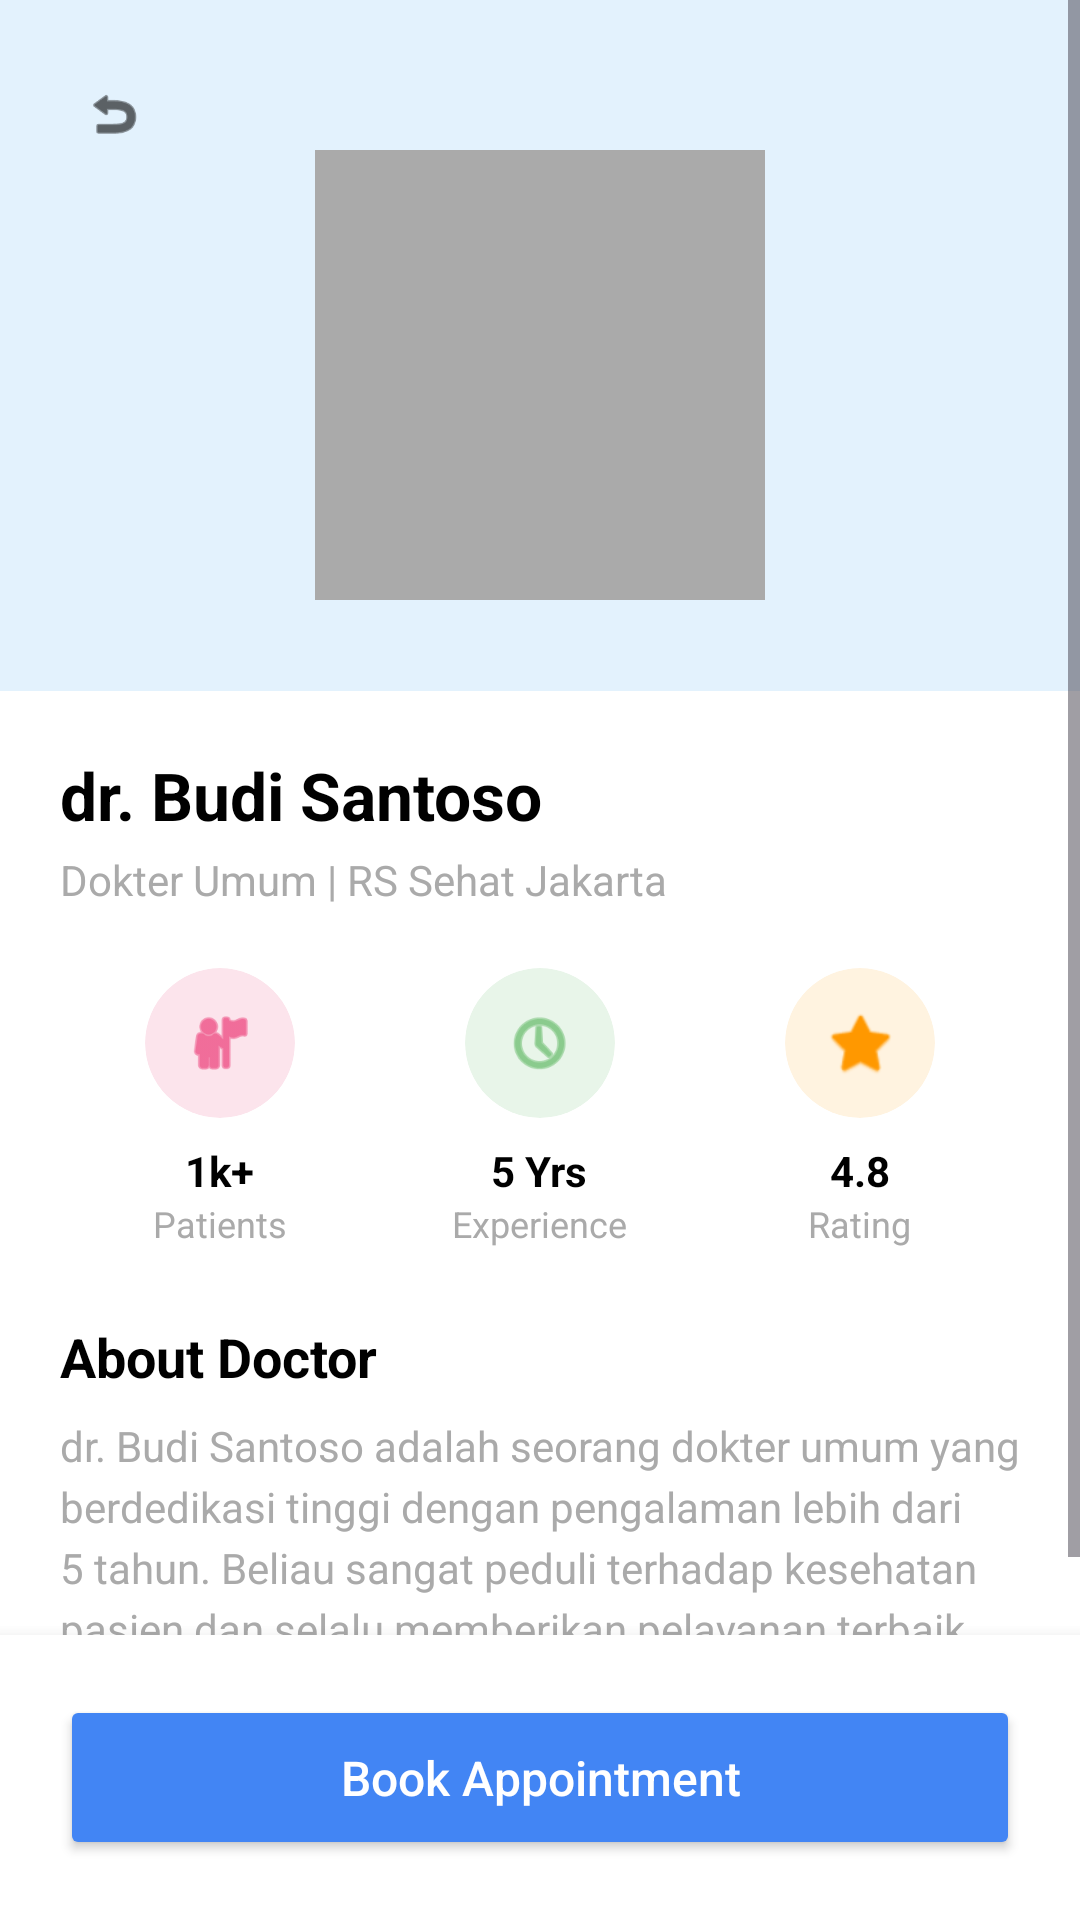

Named icons in this screenshot (1080px×1920px) and their centers, point (x, y):
recent history: point (540, 1043)
revert: point (115, 114)
star: point (861, 1043)
